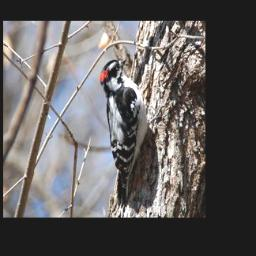Woodpecker: (98, 55, 150, 207)
